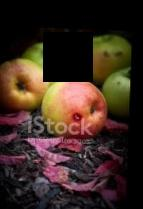rotten apple: (38, 76, 107, 137), (78, 34, 131, 81)
